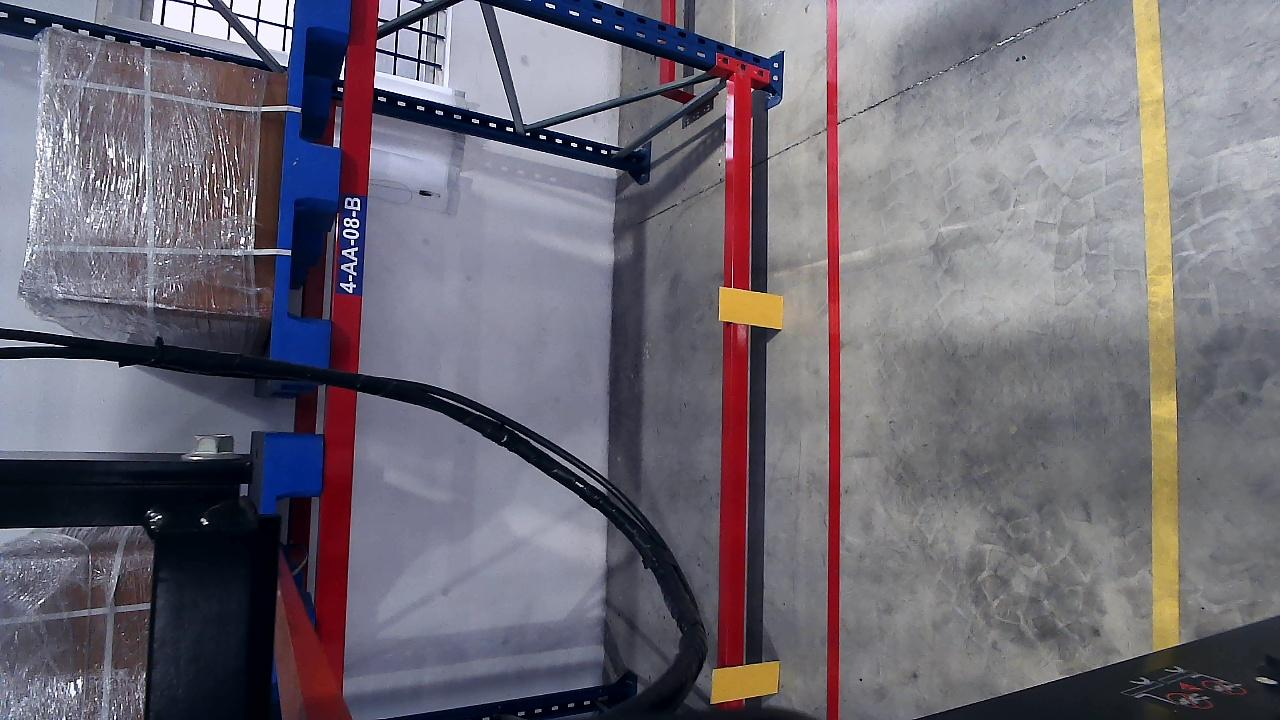h_rack: (341, 0, 374, 719), (724, 66, 759, 655)
orange_strip: (718, 286, 784, 329), (711, 660, 779, 700)
red_line: (822, 83, 844, 715)
small_pallet: (263, 3, 338, 365)
yellow_line: (1134, 1, 1181, 599)
